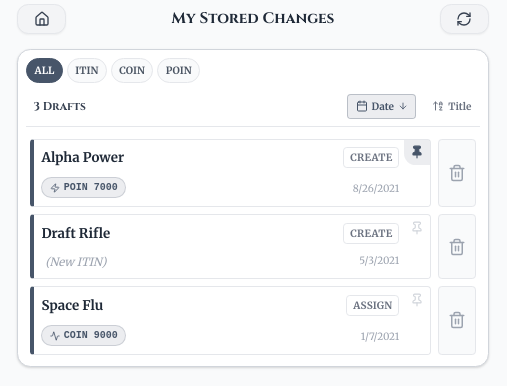
it: StoredChanges Page › filters drafts by type (POIN/POWER)
Note: Filter button label "POIN" corresponds to FilterType 'POWER'
Click the button "POIN": (179, 70) 157,58 -> 200,83
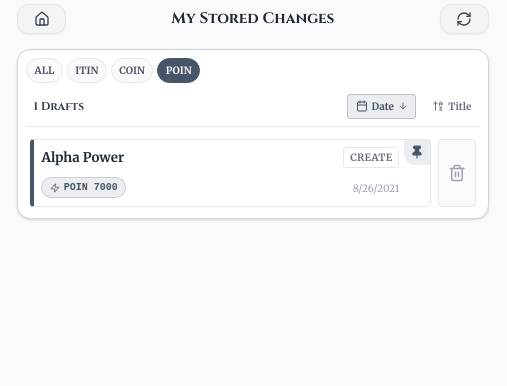
Check: the heading "Alpha Power" is shown, box 41,148 -> 132,167
Check: the heading "Draft Rifle" is gone
Check: the text "1 Drafts" is shown, box 34,99 -> 84,114
